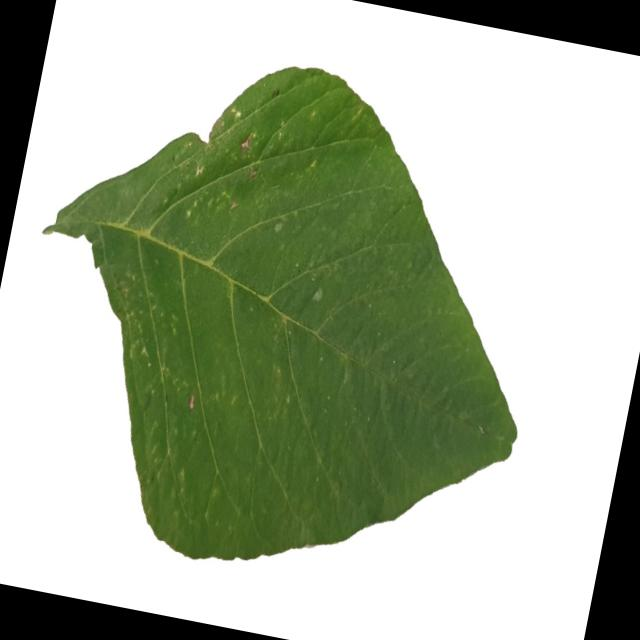Medicinal-Arive Dantu: (0, 16, 581, 631)
